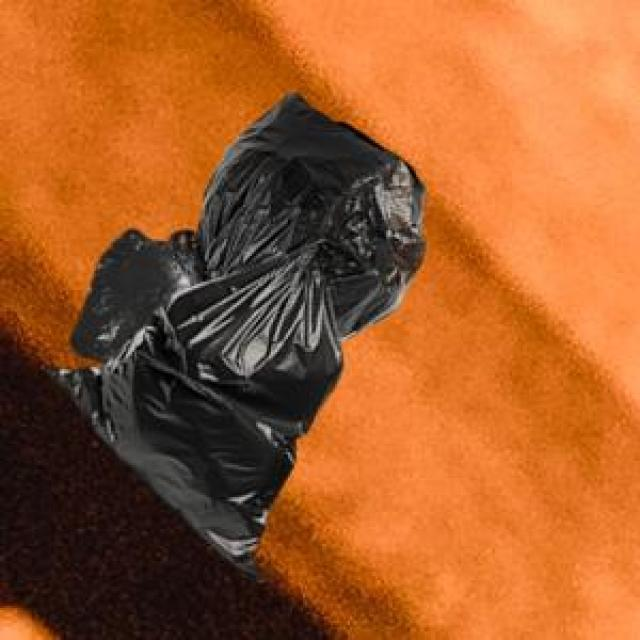miscellaneous trash: (45, 156, 420, 578), (164, 90, 420, 337)
